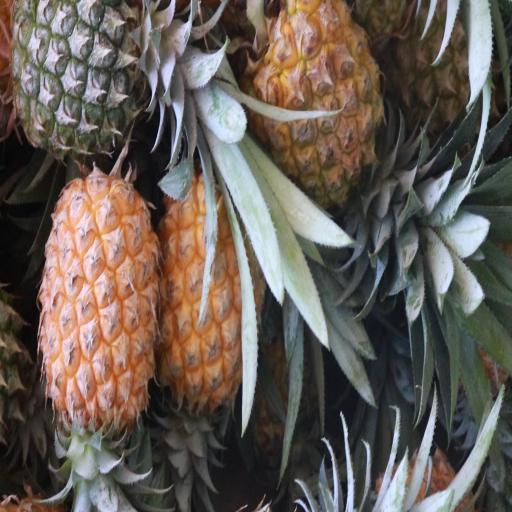------------------------------: (386, 0, 492, 153)
Pineapple - v8 v1: (44, 168, 160, 429), (246, 0, 387, 205), (154, 176, 265, 413)
